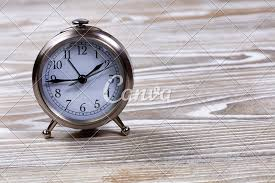alarm_clock: (26, 19, 139, 134)
